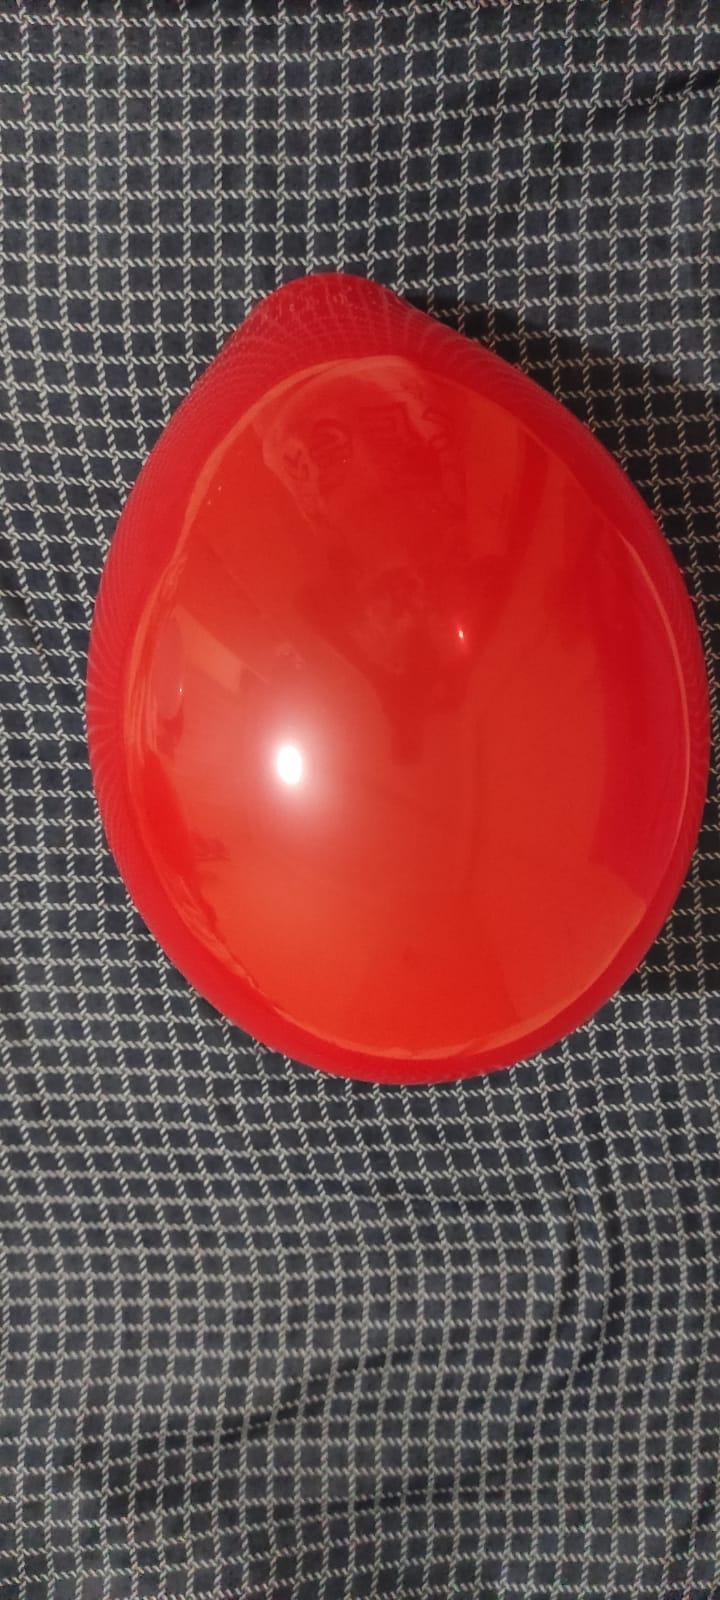red: (74, 257, 720, 1096)
